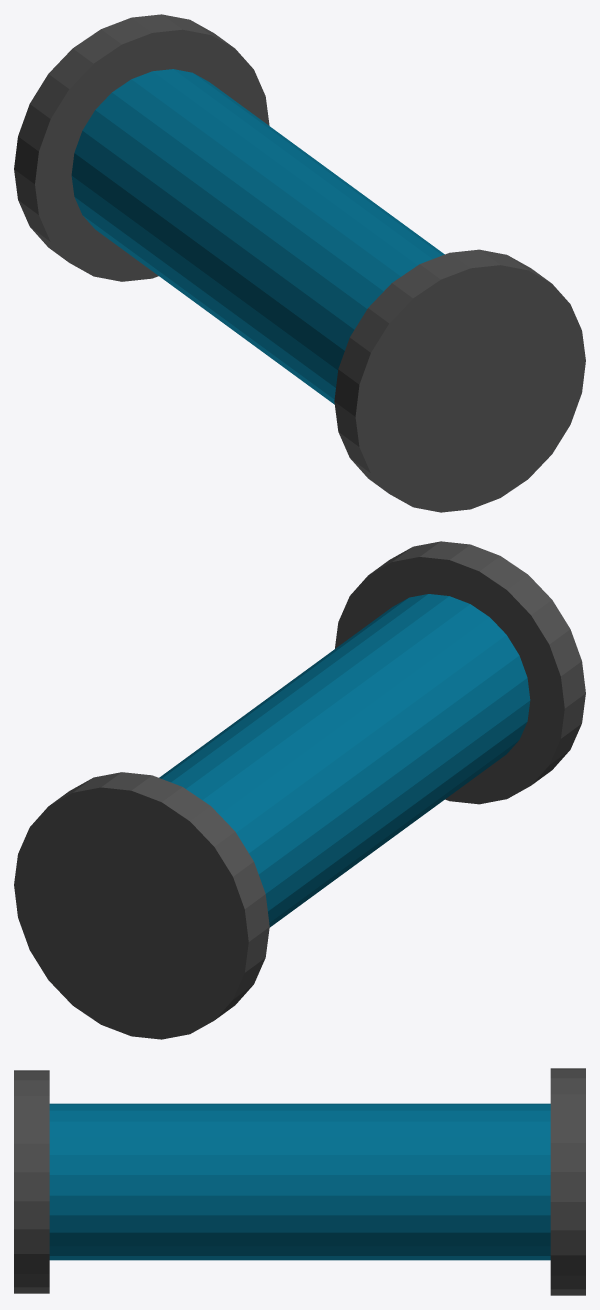
The picture shows the model from 3 angles, top to bottom: view 1: azimuth 30°, elevation 25°; view 2: azimuth 150°, elevation 25°; view 3: azimuth 270°, elevation 25°; orthographic projection. The views are drawn at different scales.
Visible parts, largest first — view 1: Circle; view 2: Circle; view 3: Circle.
Part boxes in pixels (x1,y1,x2,y2): Circle: (14,14,585,512); Circle: (14,541,585,1039); Circle: (14,1068,585,1295).
Size of the model in its own units: 39.84 by 39.84 by 99.75.
